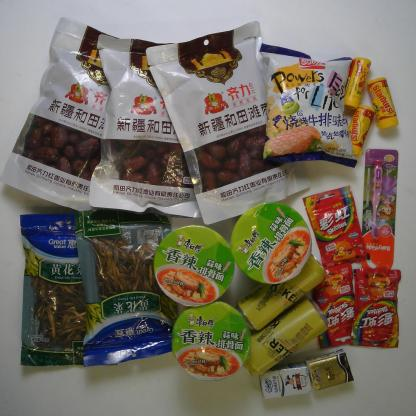Alcohol: (240, 298, 332, 379), (234, 252, 325, 332)
Candy: (300, 183, 368, 270), (306, 261, 364, 347), (352, 268, 402, 350), (339, 103, 374, 159), (339, 53, 371, 113), (366, 74, 399, 130)
Dried Food: (144, 19, 311, 228), (1, 16, 151, 214), (86, 33, 218, 219), (72, 210, 190, 368), (16, 209, 120, 371)
Instant Noodles: (230, 198, 312, 287), (151, 223, 236, 308), (169, 296, 252, 382)
Milk: (255, 362, 314, 400)
Personal Hygiene: (352, 148, 399, 273)
Puffed Food: (254, 40, 362, 170)
Tissue: (306, 348, 356, 392)
